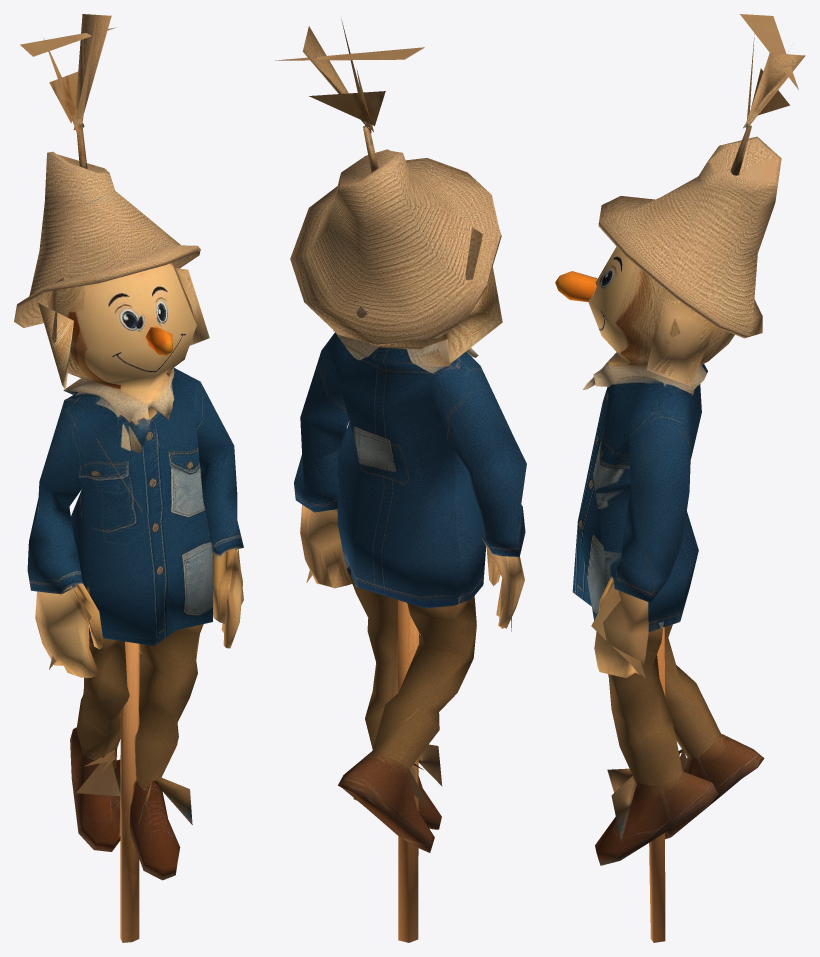
Rendered from fields-scarecrow.glb.
The picture shows the model from 3 angles, left to right: view 1: azimuth 30°, elevation 25°; view 2: azimuth 150°, elevation 25°; view 3: azimuth 270°, elevation 25°; orthographic projection. The views are drawn at different scales.
Bounding box in the file's own units: 0.2358 × 0.9536 × 0.2368.
1 material, 1 textured.
